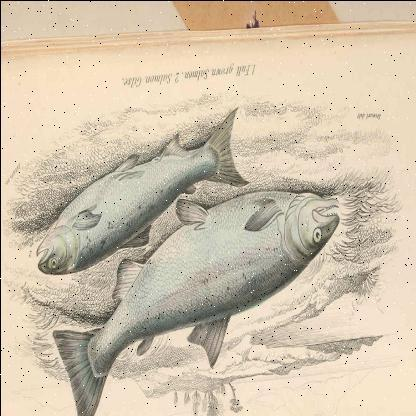fish: (51, 187, 341, 415), (36, 108, 246, 278)
